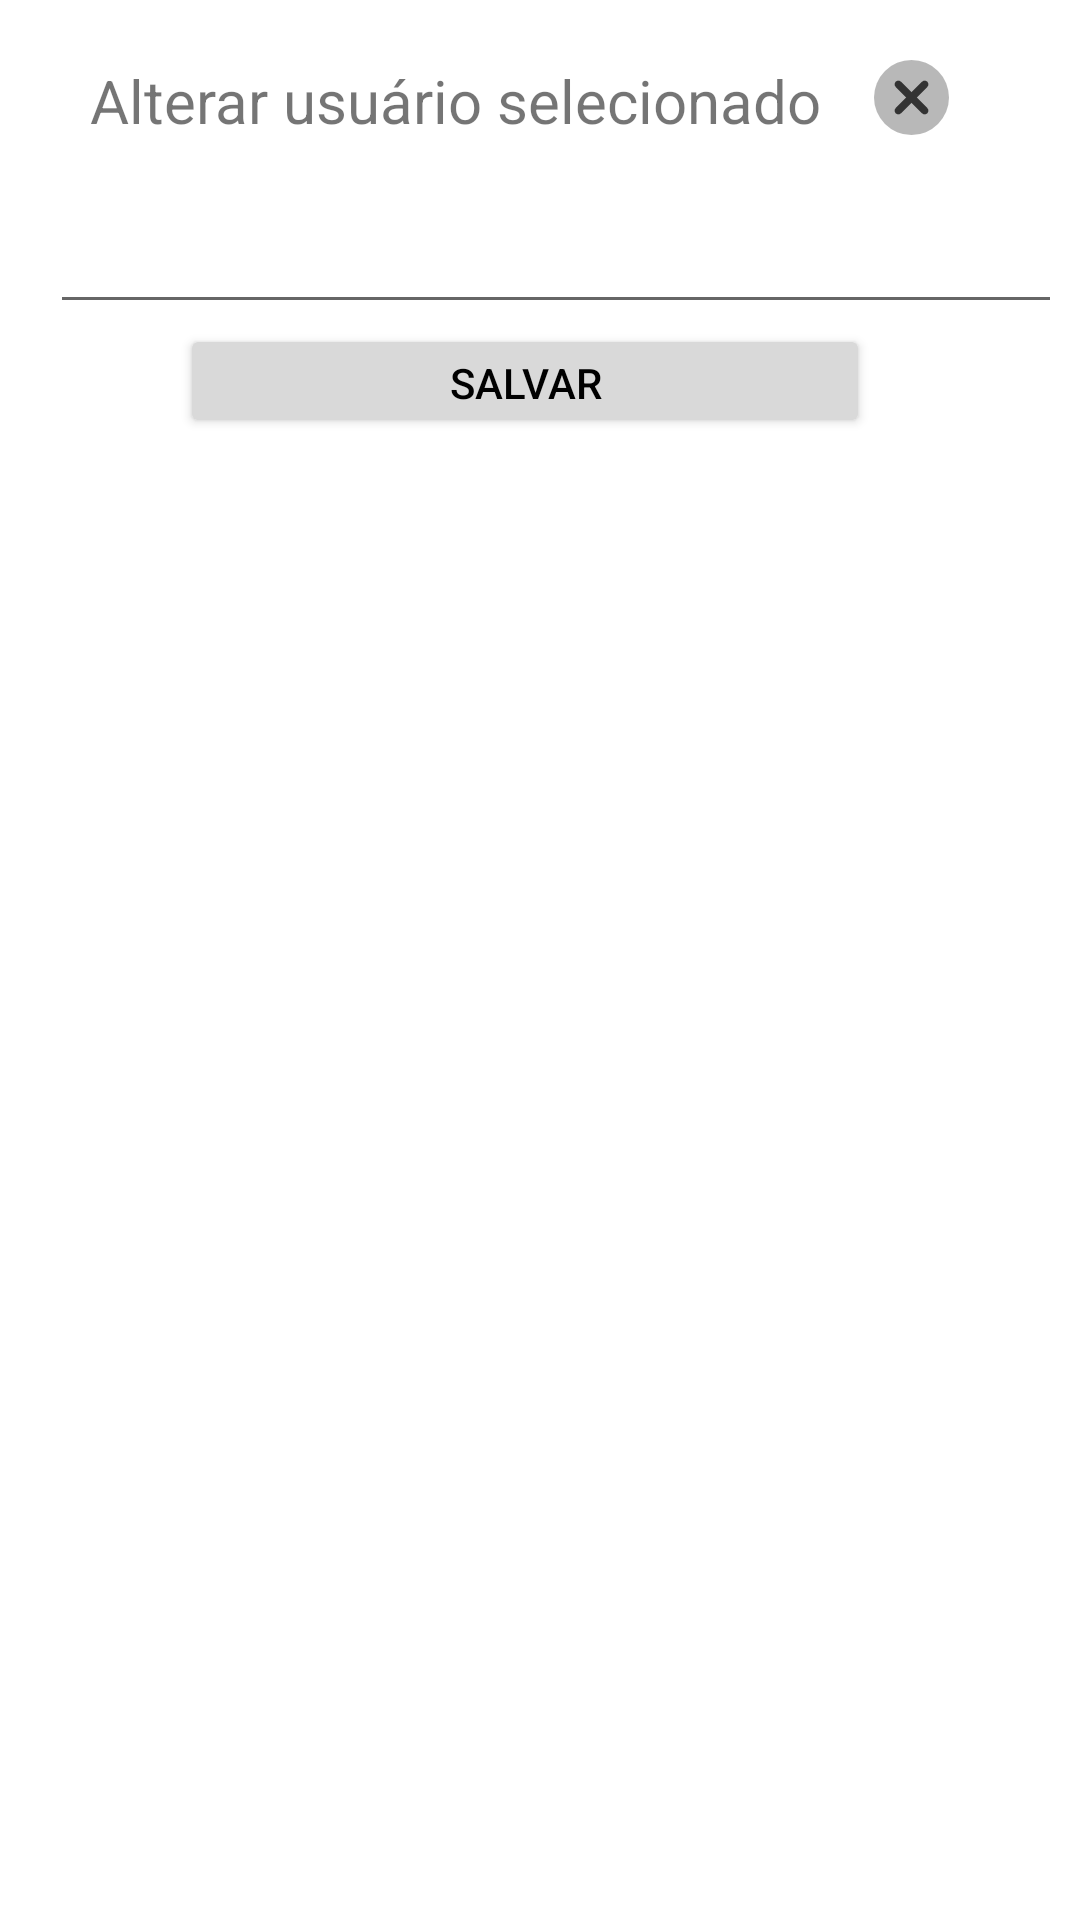

Screen size 1080 × 1920. Icon name, then its center in pixels as [x,y]:
cancel: [911,97]
